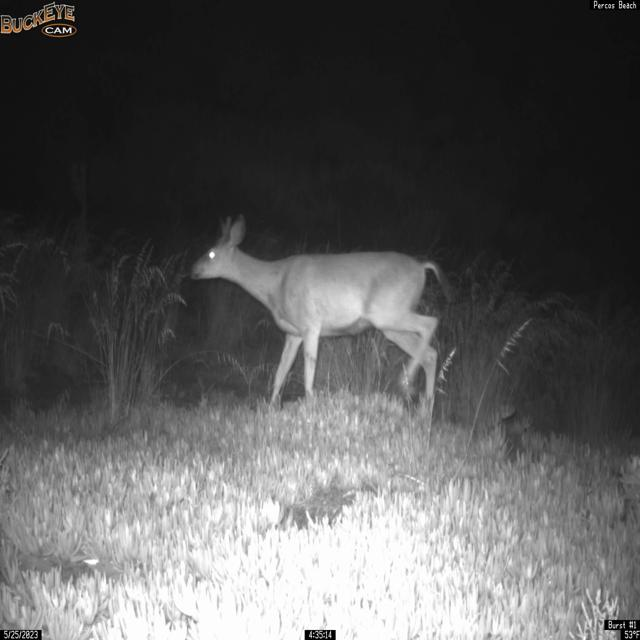deer: (188, 212, 456, 422)
